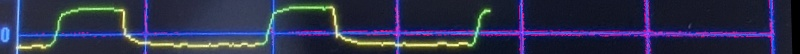normal_pressure: (10, 0, 488, 54)
